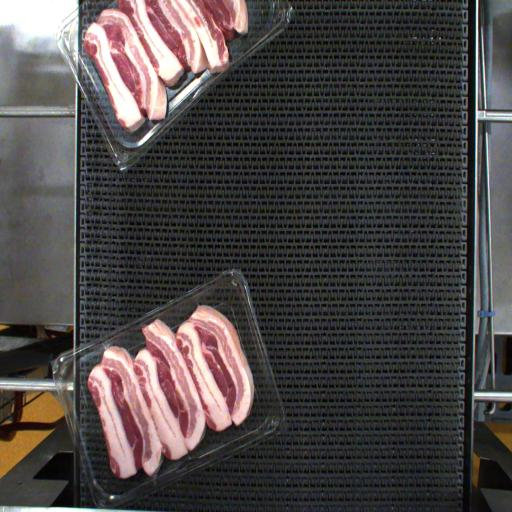packaging-error: (144, 470, 168, 492), (97, 335, 114, 355)
